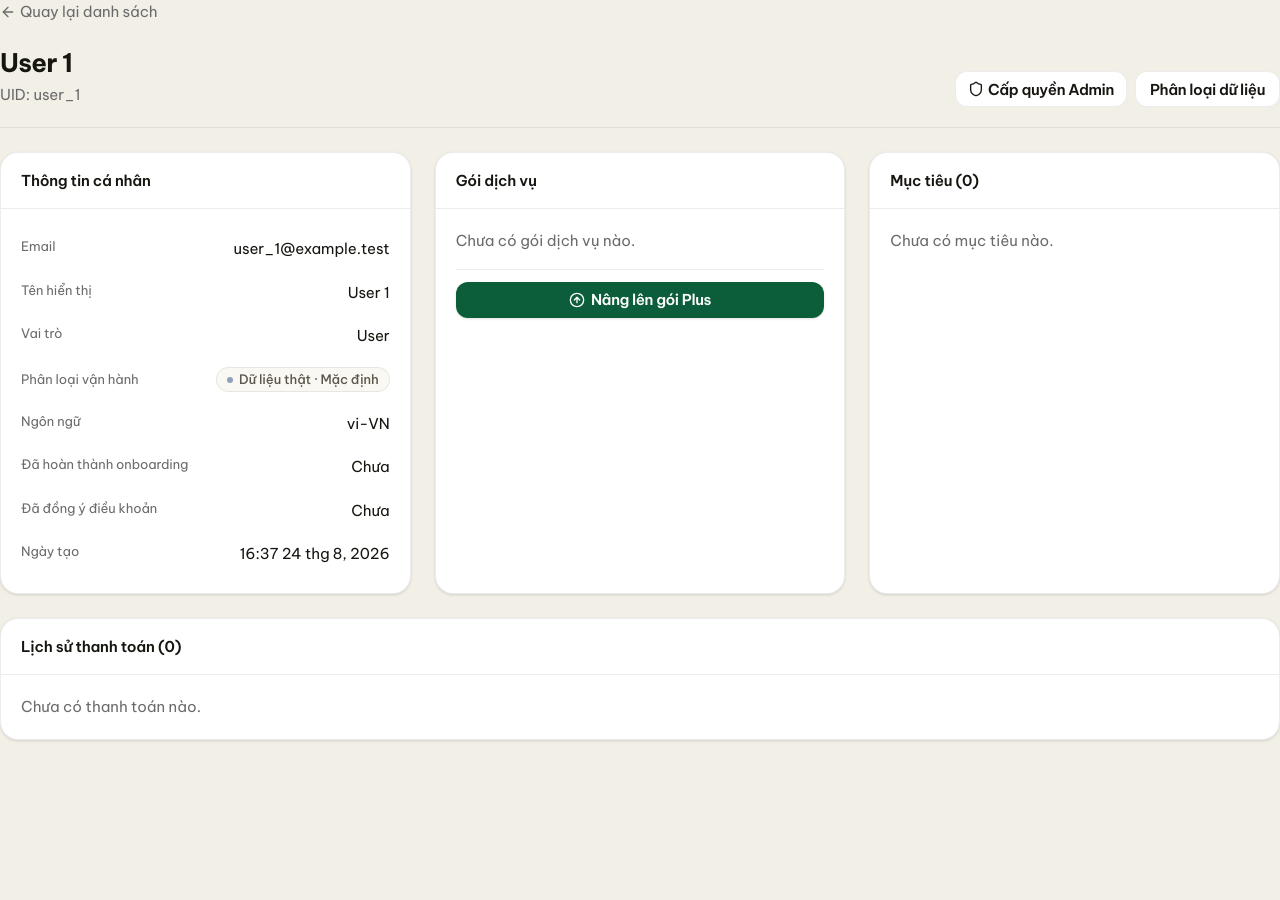
Test: AdminUserDetailPage role confirmation › reloads the detail before showing a classification badge
What coordinates should you click on to do the following:
click the button "Phân loại dữ liệu"
I would click on:
 (1208, 89)
Its box is 1135,71 -> 1279,107.
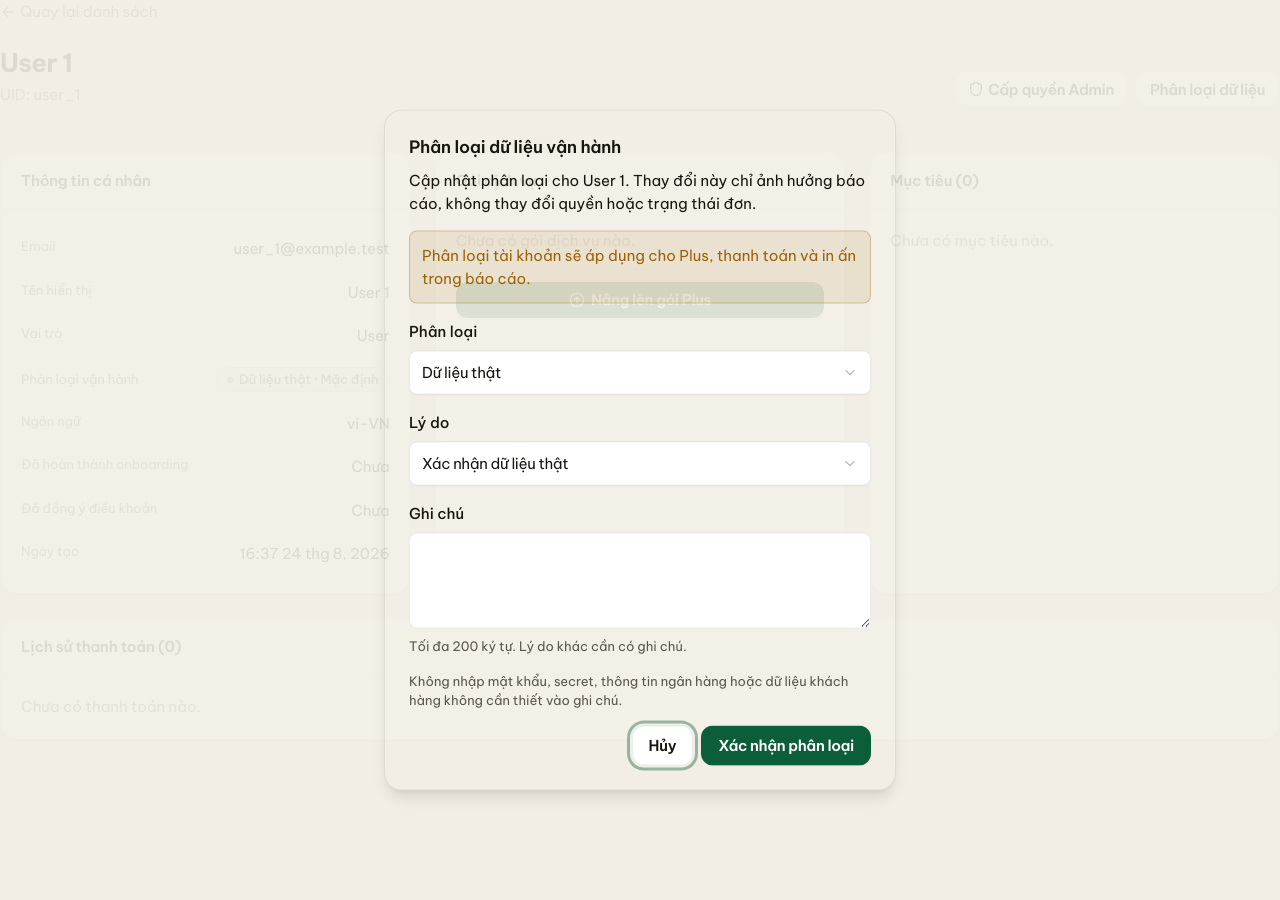
What coordinates should you click on to do the following:
click the dropdown named "Phân loại"
I would click on:
 (461, 372)
Its box is 409,350 -> 871,394.
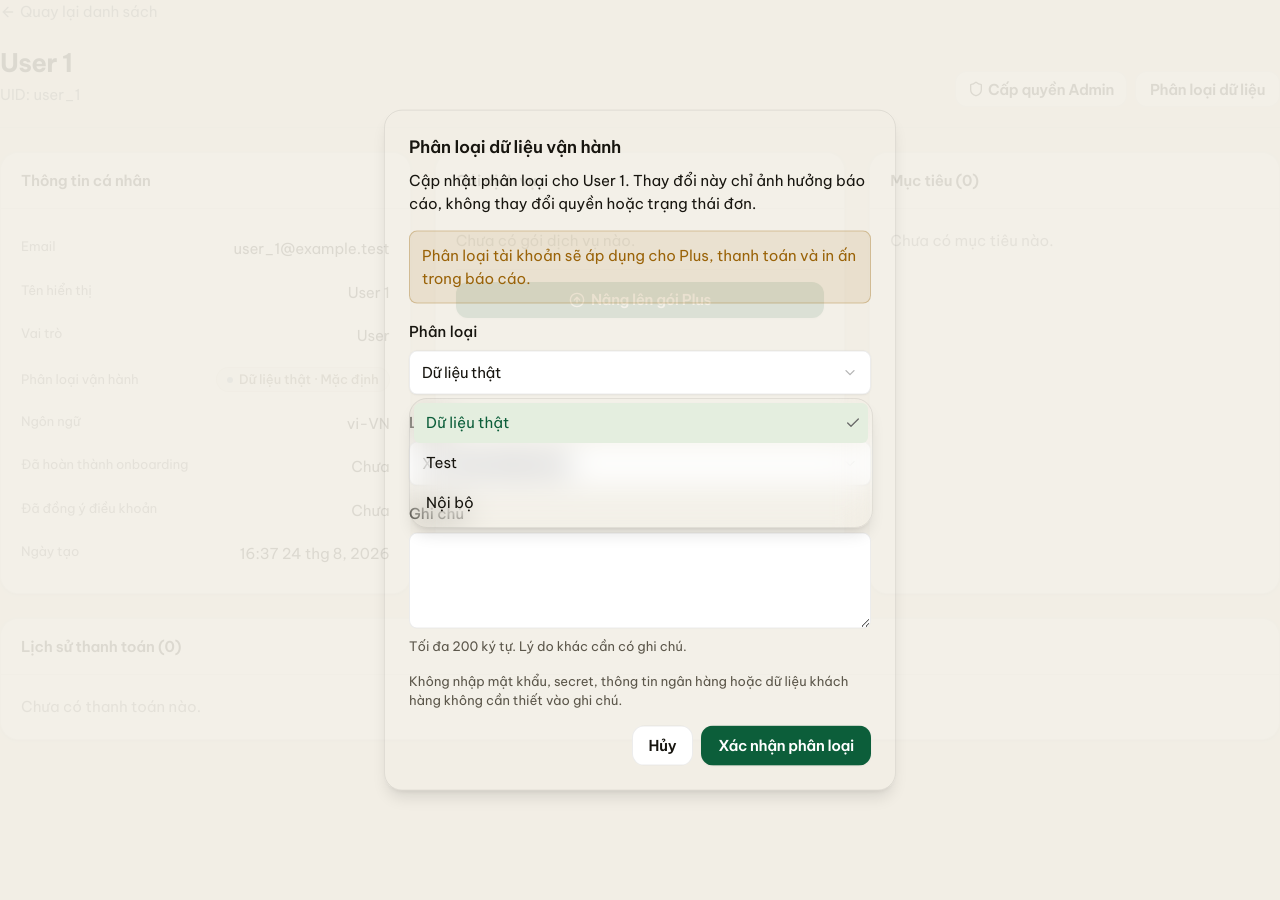
What coordinates should you click on to do the following:
click the option "Test"
I would click on:
 (442, 462)
Its box is 426,453 -> 457,472.
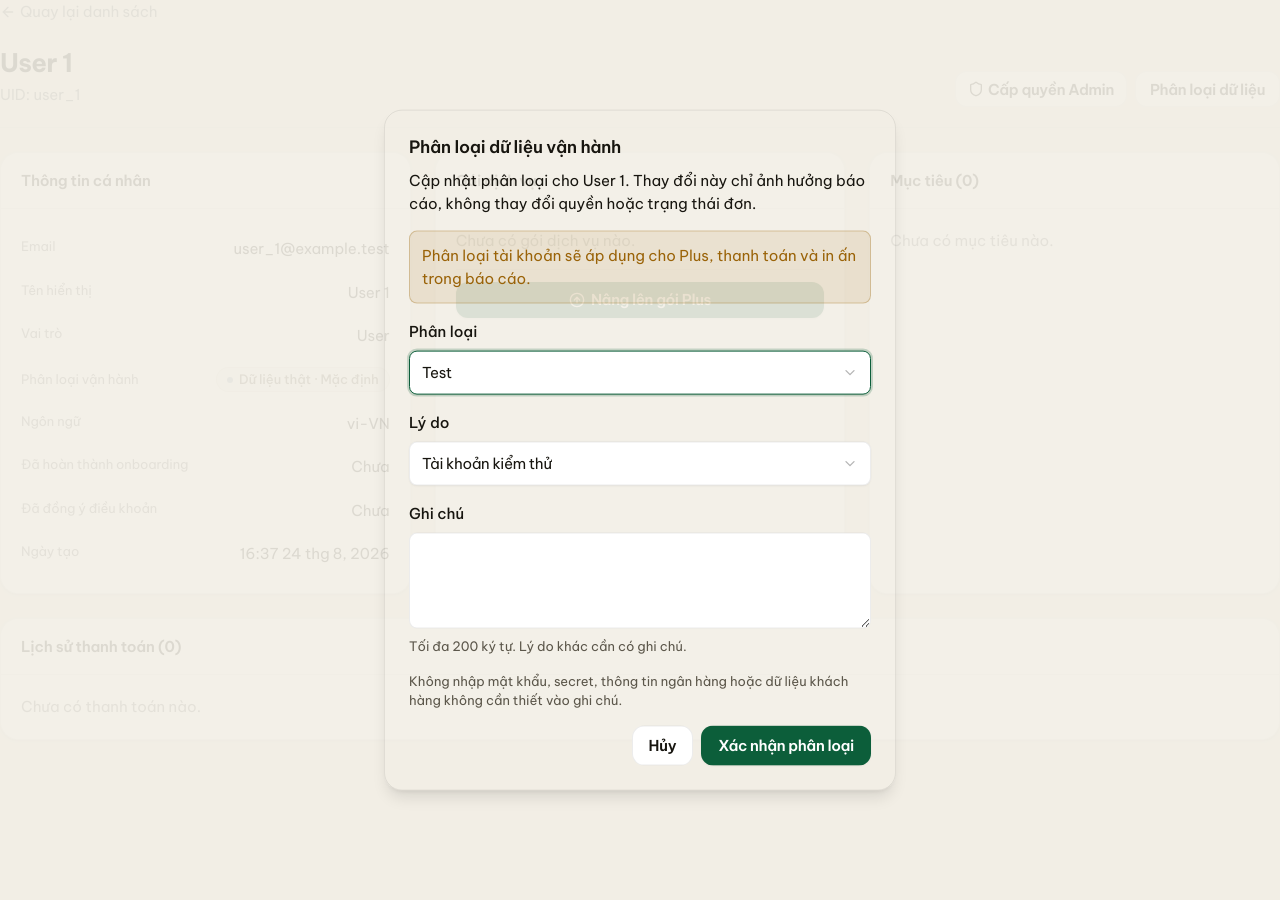
What coordinates should you click on to do the following:
click the button "Xác nhận phân loại"
I would click on:
 (786, 745)
Its box is 701,725 -> 871,765.
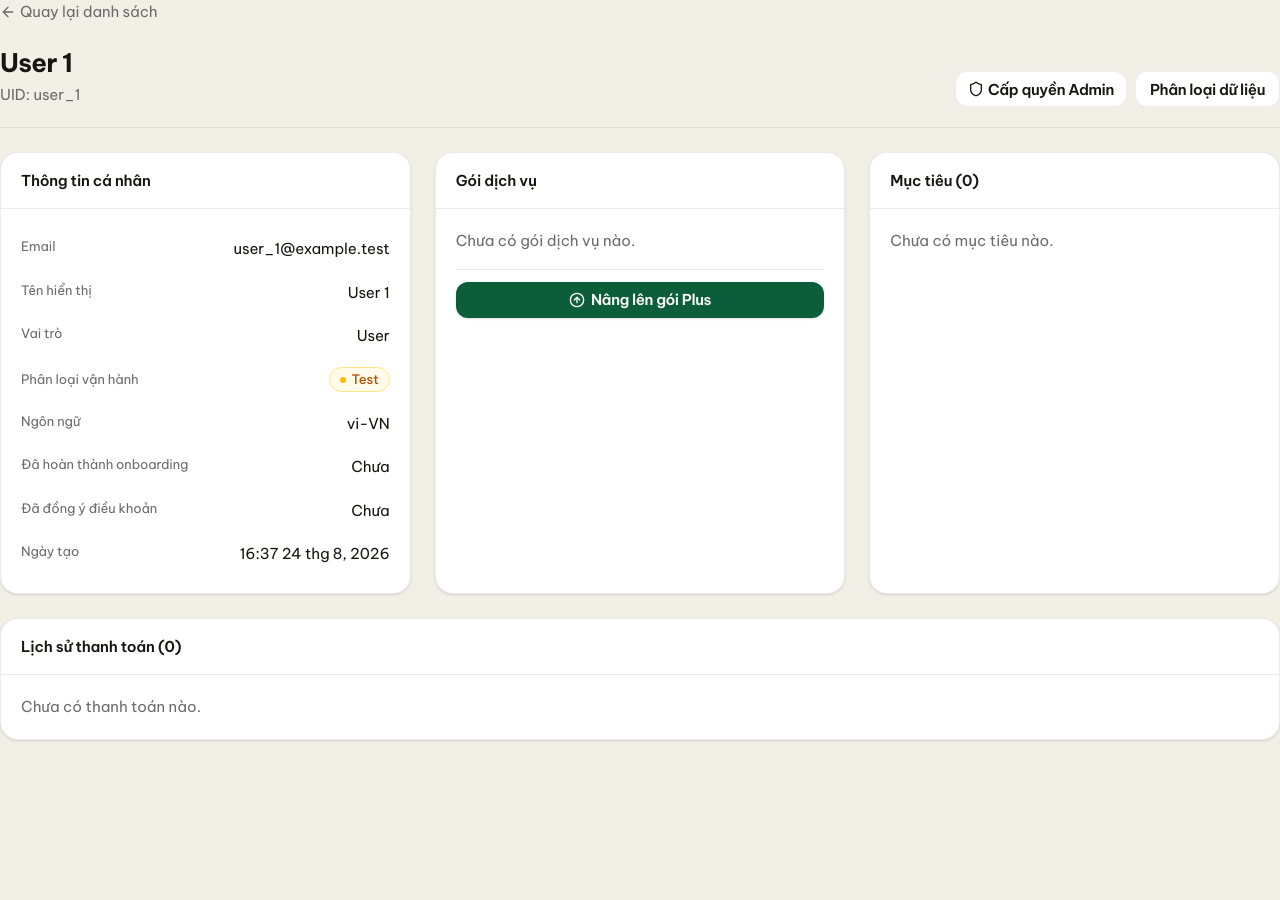
Result: the text "Test" is shown at 328,367 -> 390,392
